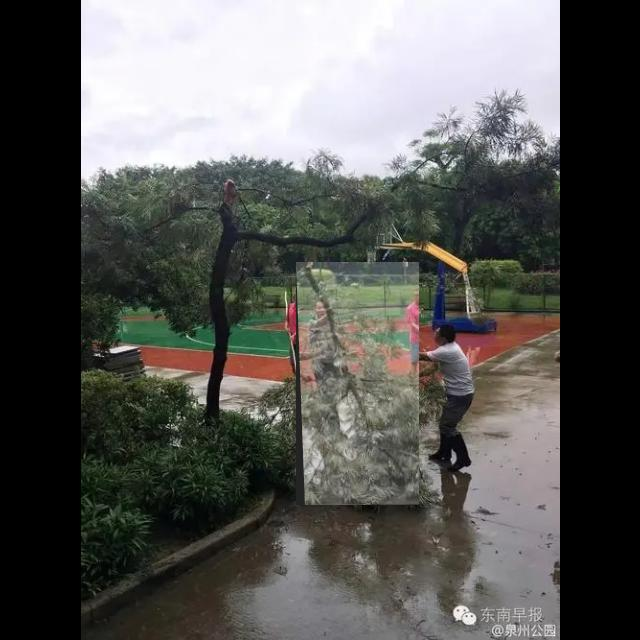fallen_tree: (296, 262, 420, 506)
